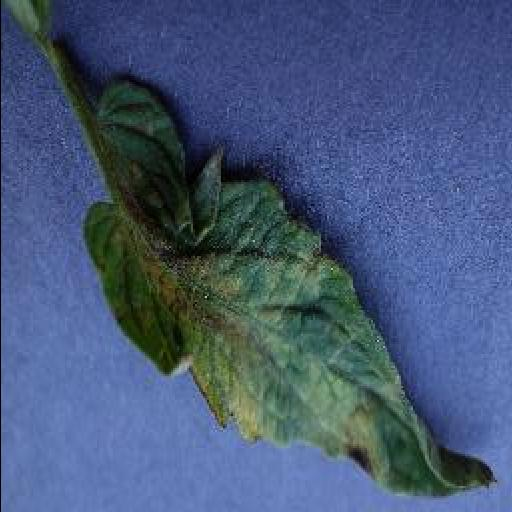disease_tomato: (82, 79, 498, 499)
